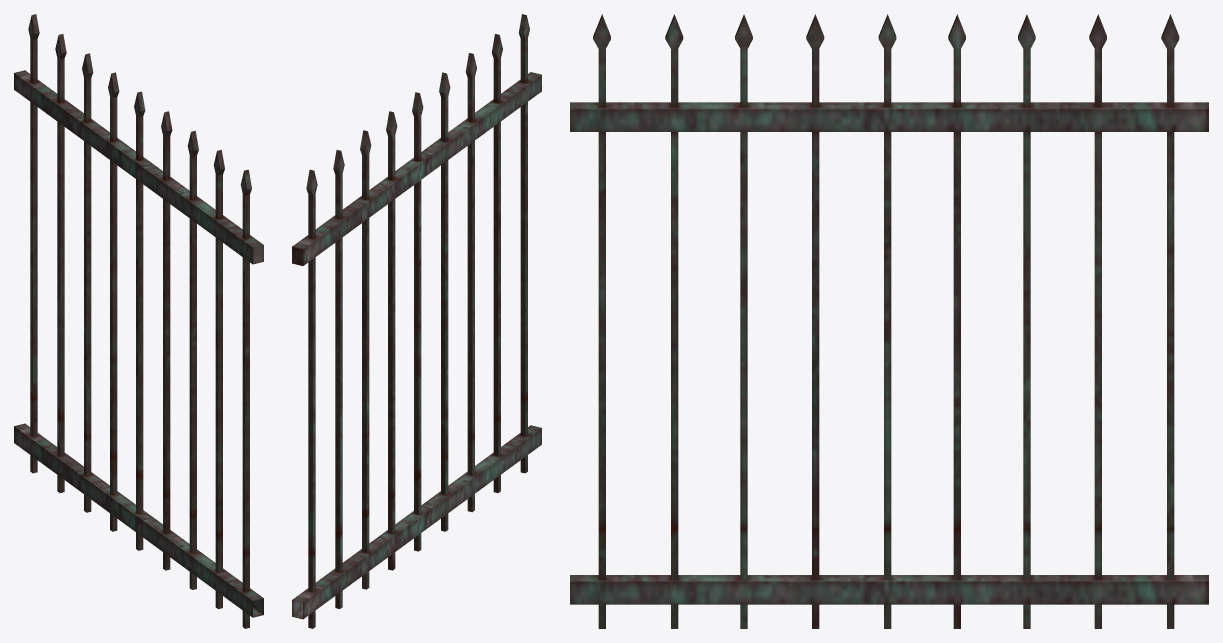
Rendered from Crypt_Gate_Lars.fbx.
The picture shows the model from 3 angles, left to right: view 1: azimuth 30°, elevation 25°; view 2: azimuth 150°, elevation 25°; view 3: azimuth 270°, elevation 25°; orthographic projection. The views are drawn at different scales.
Visible parts, largest first — view 1: Cube.013; view 2: Cube.013; view 3: Cube.013.
Part boxes in pixels (x1,y1,x2,y2): Cube.013: [14, 14, 263, 628]; Cube.013: [292, 14, 541, 628]; Cube.013: [570, 14, 1208, 628].
Size of the model in its own units: 6.72 by 264 by 250.
